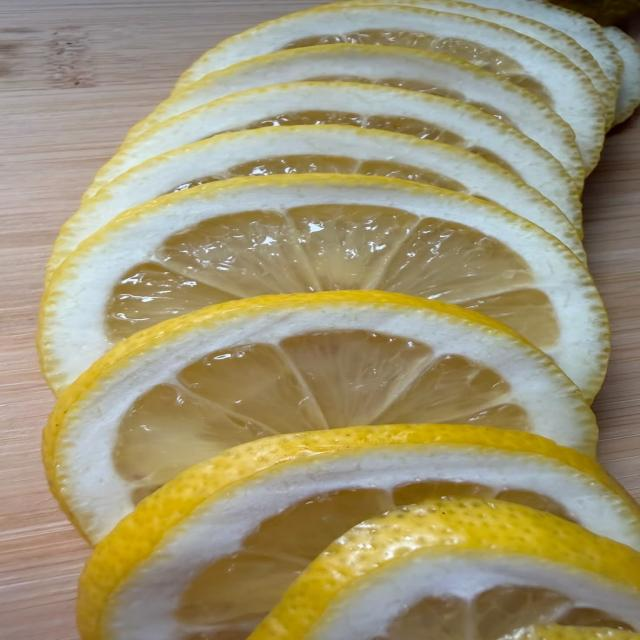lemon: (43, 292, 596, 540), (40, 174, 608, 399), (80, 425, 639, 639), (50, 125, 585, 269), (180, 5, 606, 171), (84, 82, 581, 220), (124, 45, 584, 185), (250, 499, 639, 639), (335, 0, 619, 123), (459, 0, 622, 90), (605, 27, 639, 123), (552, 0, 639, 24), (500, 625, 639, 639)
